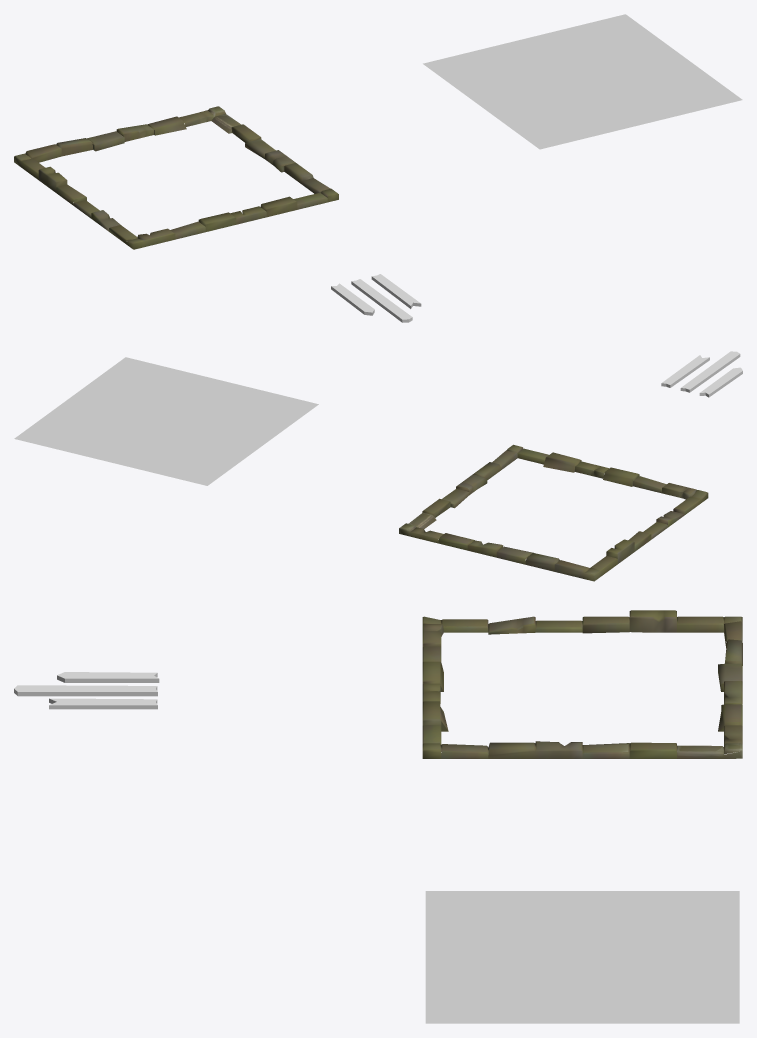
File: LevelTileSet1.fbx
The picture shows the model from 3 angles, top to bottom: view 1: azimuth 30°, elevation 25°; view 2: azimuth 150°, elevation 25°; view 3: azimuth 270°, elevation 25°; orthographic projection. The views are drawn at different scales.
Visible parts, largest first — view 1: Plane, Plane.001, Plane.005, Plane.004; view 2: Plane, Plane.001, Plane.005, Plane.004, Plane.003; view 3: Plane, Plane.001, Plane.005, Plane.004, Plane.003.
Part boxes in pixels (left/top/right/bottom): Plane: left=423, top=14, right=742, bottom=149; Plane.001: left=14, top=106, right=338, bottom=249; Plane.005: left=351, top=279, right=412, bottom=322; Plane.004: left=371, top=274, right=421, bottom=308; Plane: left=14, top=357, right=318, bottom=485; Plane.001: left=399, top=444, right=708, bottom=581; Plane.005: left=680, top=351, right=740, bottom=392; Plane.004: left=661, top=355, right=709, bottom=387; Plane.003: left=699, top=367, right=742, bottom=397; Plane: left=425, top=891, right=739, bottom=1023; Plane.001: left=422, top=610, right=742, bottom=758; Plane.005: left=14, top=685, right=157, bottom=696; Plane.004: left=49, top=698, right=157, bottom=709; Plane.003: left=57, top=672, right=159, bottom=682.
Bounding box in the file's own units: 6.01 × 0.115 × 4.64.
